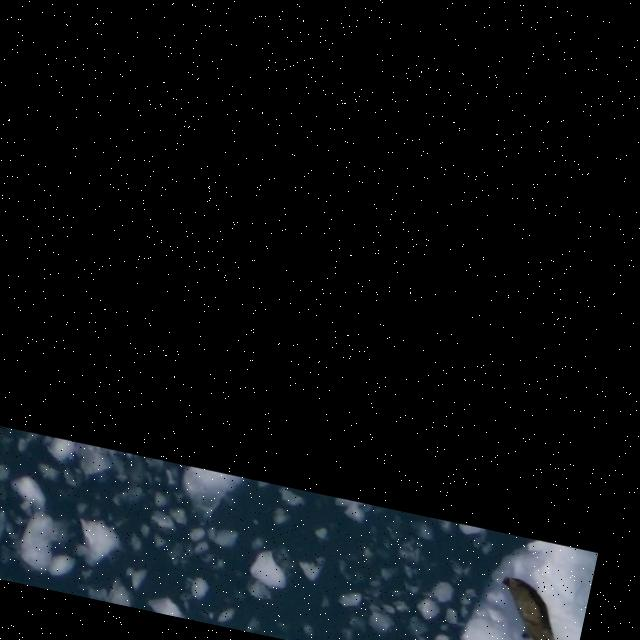seal: (502, 577, 555, 640)
